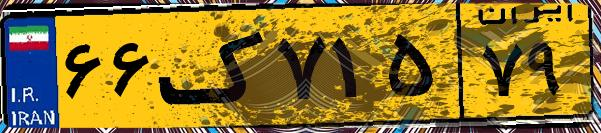1: (330, 28, 385, 110)
5: (385, 28, 445, 110)
6: (57, 26, 110, 100), (110, 28, 158, 98)
7: (270, 28, 330, 110), (475, 38, 525, 113)
9: (525, 38, 570, 115)
ک: (158, 12, 270, 120)
